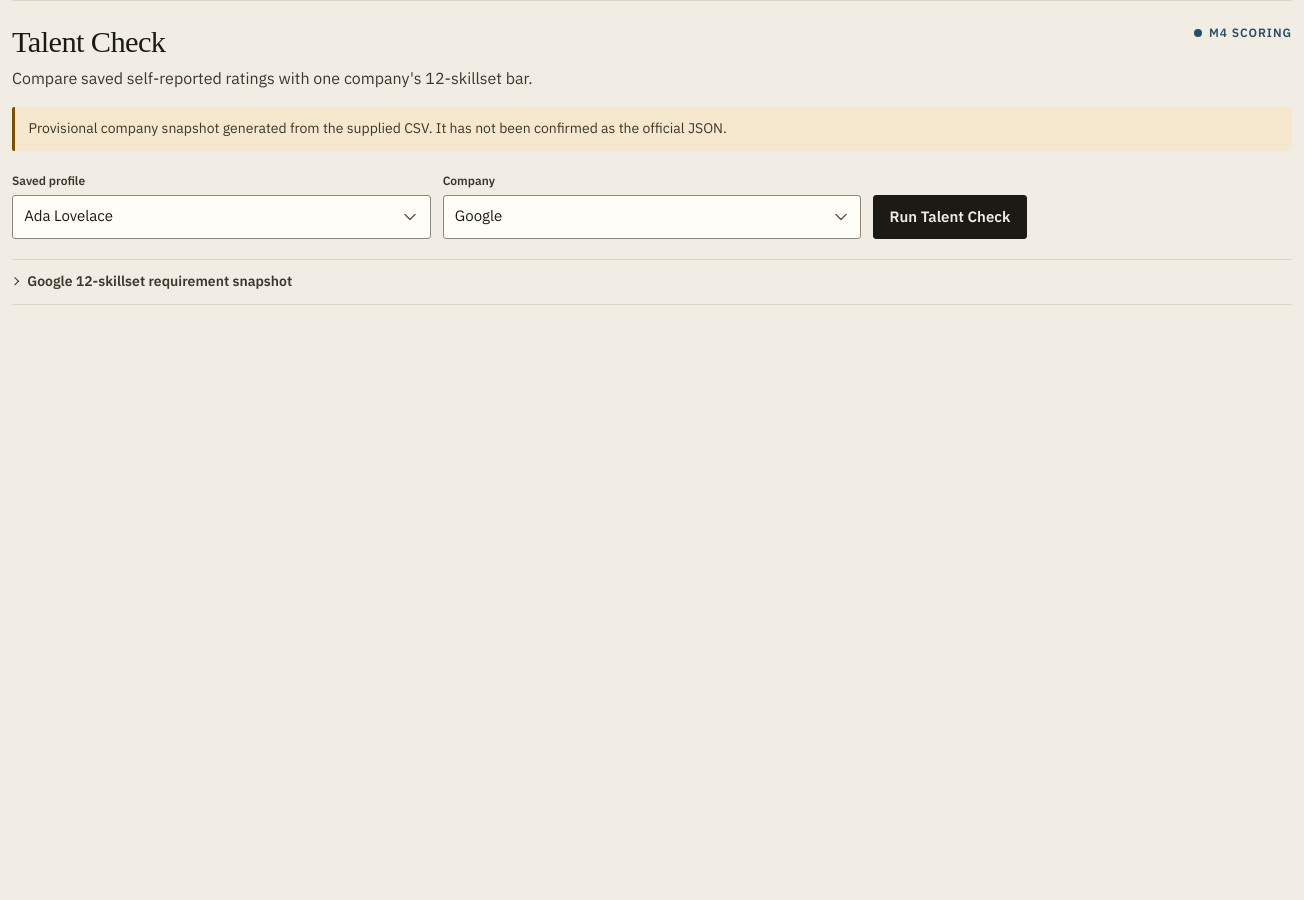
Scenario: Talent Check panel › withholds the score and explains missing ratings
Click the button "Run Talent Check". click: (950, 216)
box: [873, 194, 1027, 238]
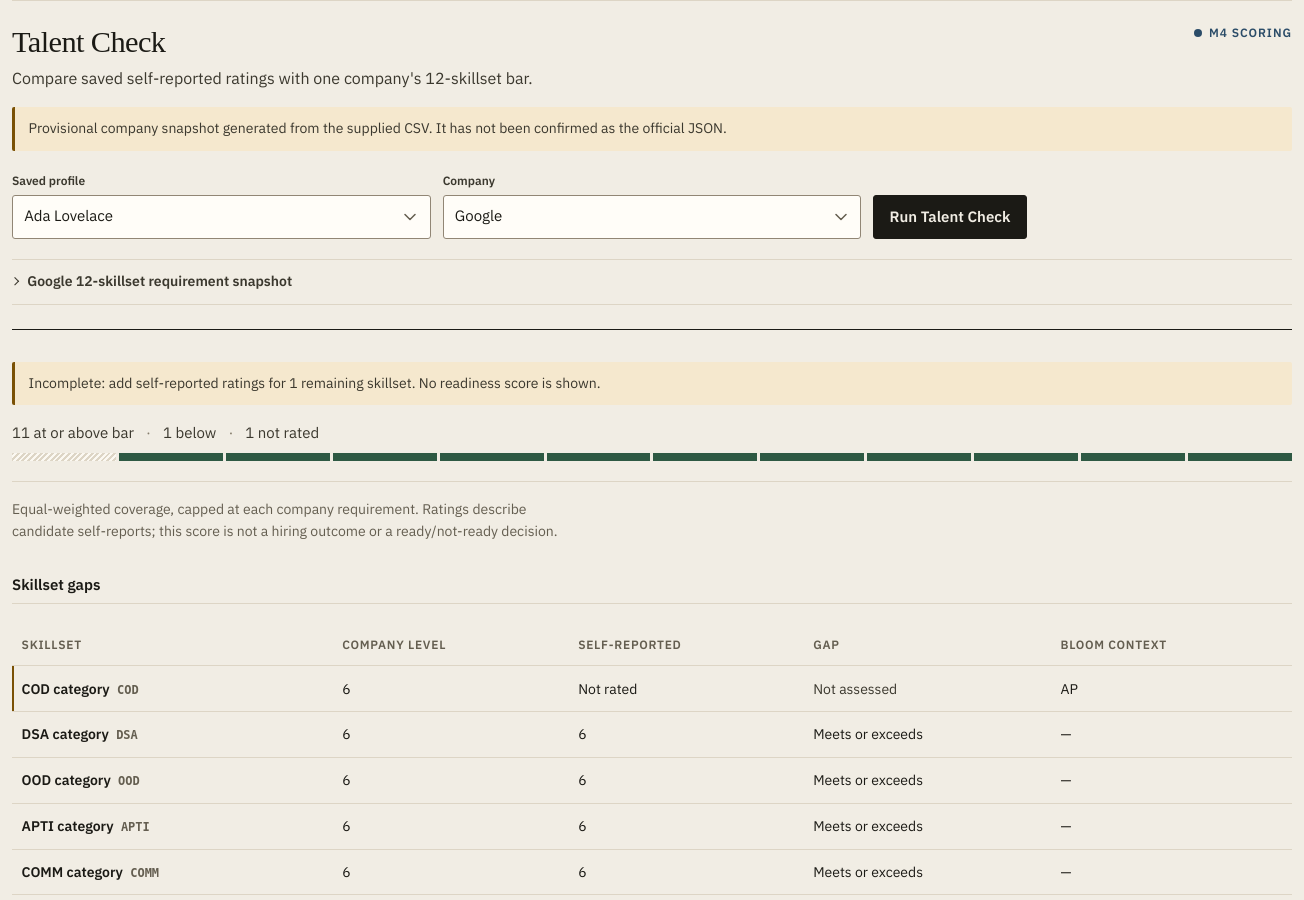
Expected: the text "No readiness score is shown" is shown, [412, 374, 601, 392]
Expected: the text "Not rated" is shown, [568, 666, 804, 712]
